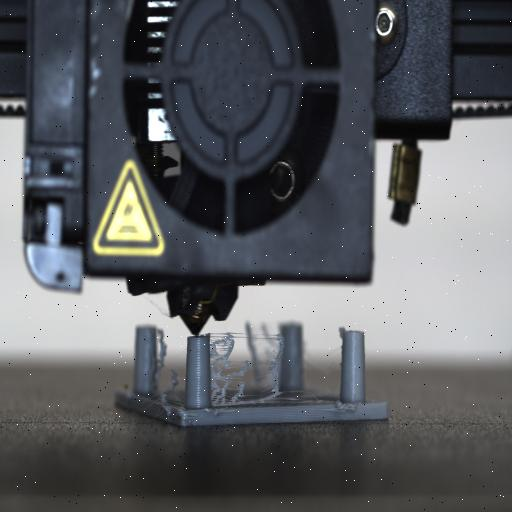stringing: (156, 328, 290, 415)
